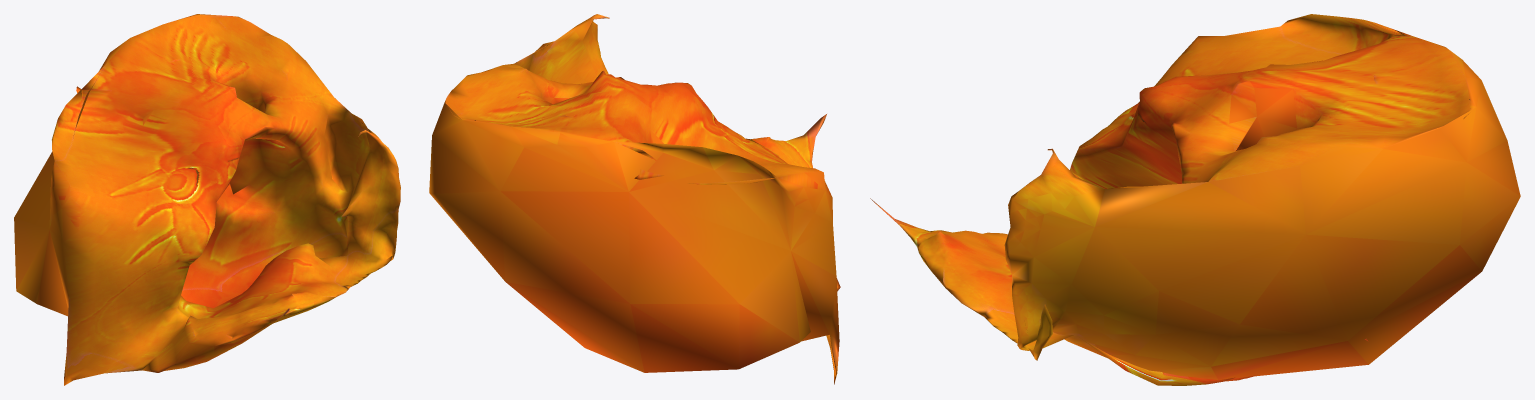
Rendered from cell_creature1_test_textured00.glb.
The picture shows the model from 3 angles, left to right: view 1: azimuth 30°, elevation 25°; view 2: azimuth 150°, elevation 25°; view 3: azimuth 270°, elevation 25°; orthographic projection. The views are drawn at different scales.
Parts seen in each view (by area): view 1: Mesh_0; view 2: Mesh_0; view 3: Mesh_0.
Boxes of the visible parts, x1=… form: Mesh_0: x1=14, y1=14, x2=400, y2=385; Mesh_0: x1=429, y1=14, x2=840, y2=384; Mesh_0: x1=870, y1=14, x2=1520, y2=385.
Size of the model in its own units: 9.51 by 7.64 by 12.3.
1 material, 1 textured.
